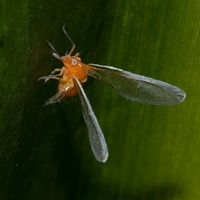insect: (38, 24, 185, 161)
